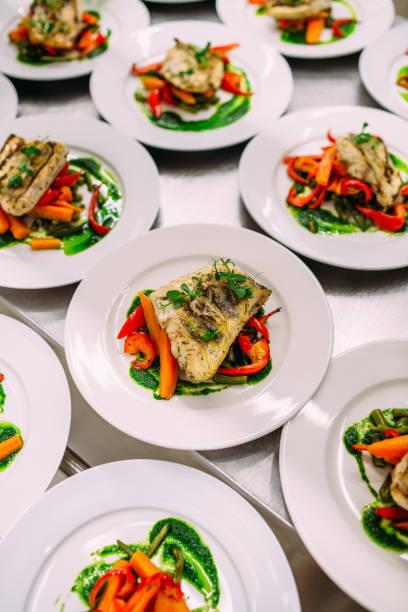Braised Crucian Carp: (64, 223, 333, 446), (0, 465, 299, 612), (0, 111, 161, 286), (236, 105, 404, 269), (90, 21, 294, 153)
